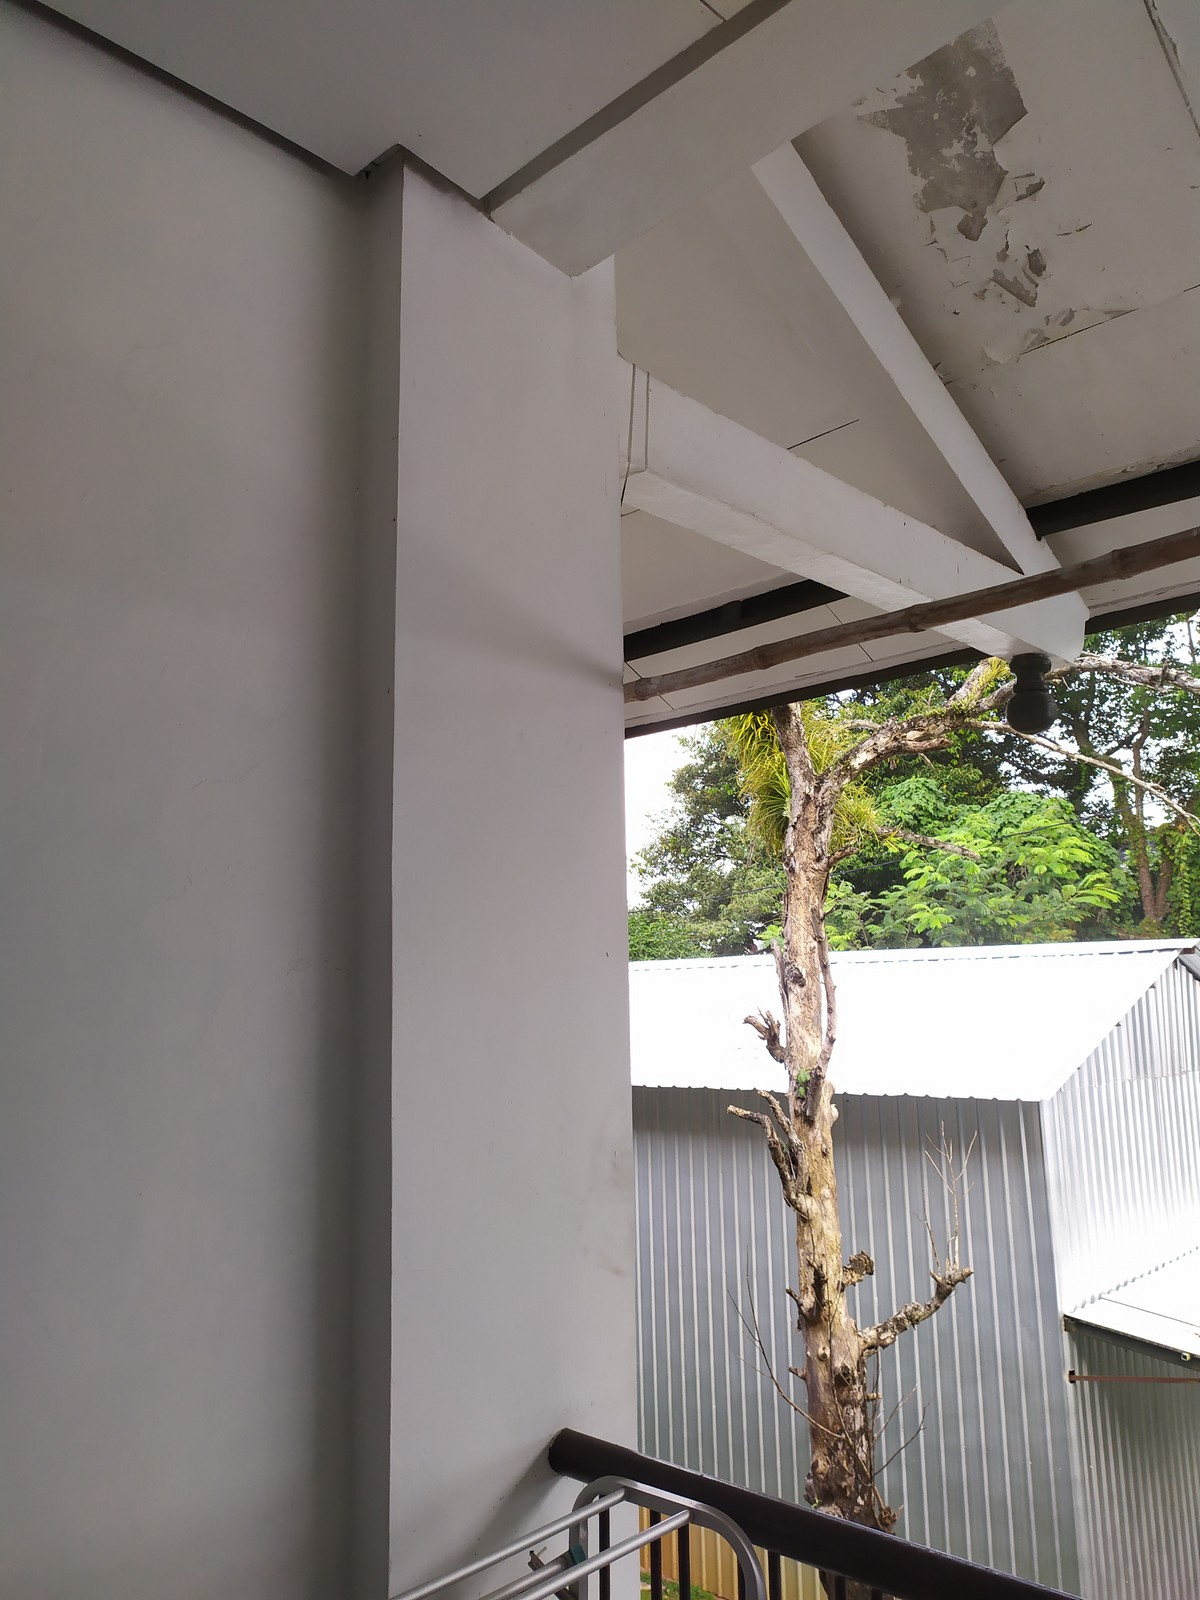concrete beam: (597, 351, 973, 653)
concrete column: (323, 141, 661, 1574)
